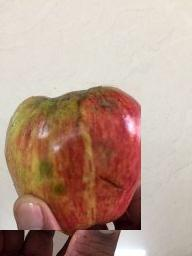Apple Semirotten: (0, 82, 141, 230)
